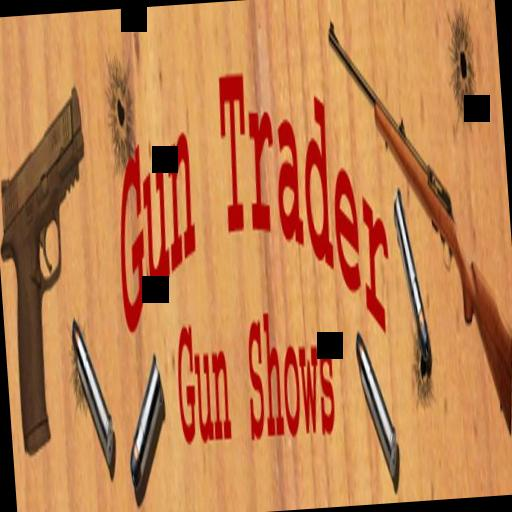Handgun: (0, 75, 105, 455)
